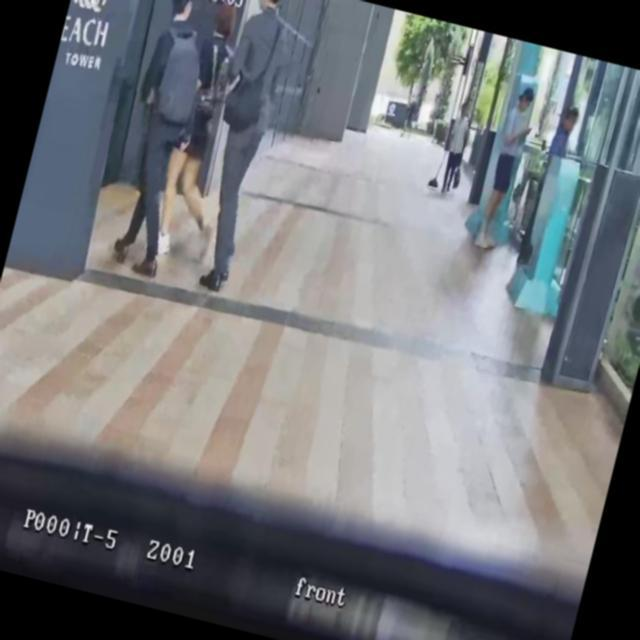person: (177, 0, 305, 295), (96, 0, 225, 280), (144, 0, 261, 267), (474, 83, 542, 254), (437, 99, 478, 196), (546, 102, 580, 160)
